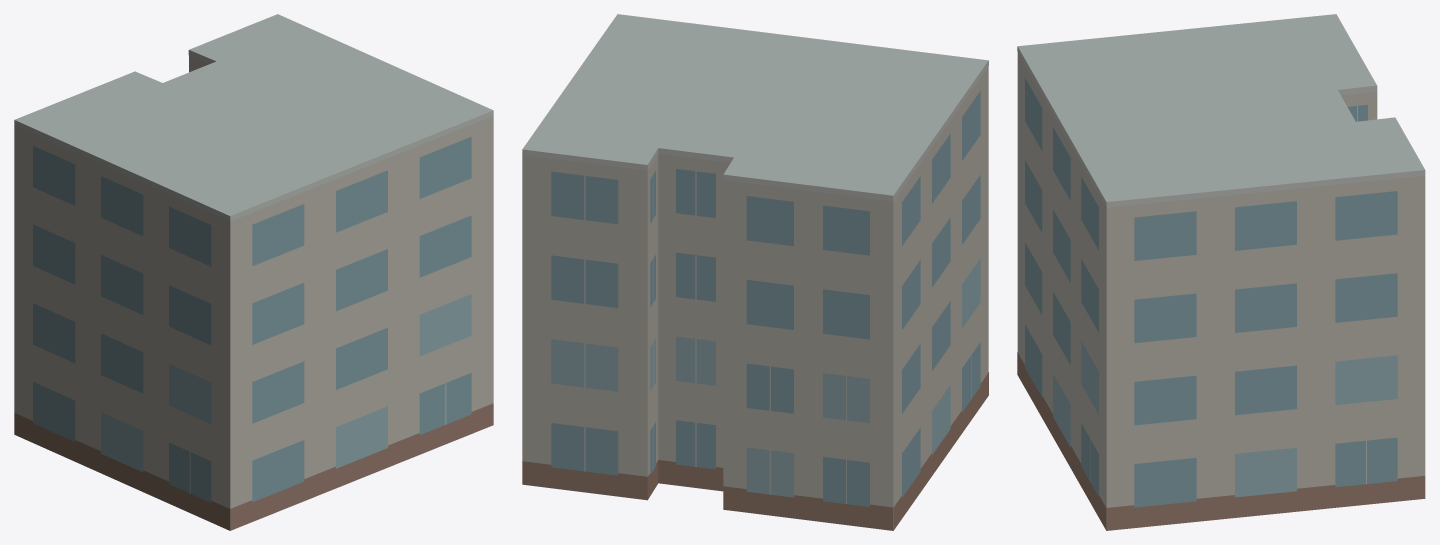
File: survey-upis-32716390.glb
3 views of the same model, side by side, from view 1: azimuth 30°, elevation 25°; view 2: azimuth 150°, elevation 25°; view 3: azimuth 270°, elevation 25° (orthographic). The views are drawn at different scales.
Visible parts, largest first — view 1: survey-upis-32716390.tmp; view 2: survey-upis-32716390.tmp; view 3: survey-upis-32716390.tmp.
Part boxes in pixels (bbox=[...]): survey-upis-32716390.tmp: bbox=[14, 14, 493, 530]; survey-upis-32716390.tmp: bbox=[522, 14, 988, 530]; survey-upis-32716390.tmp: bbox=[1017, 14, 1425, 530].
Bounding box in the file's own units: 17.5 × 14.25 × 16.03.
